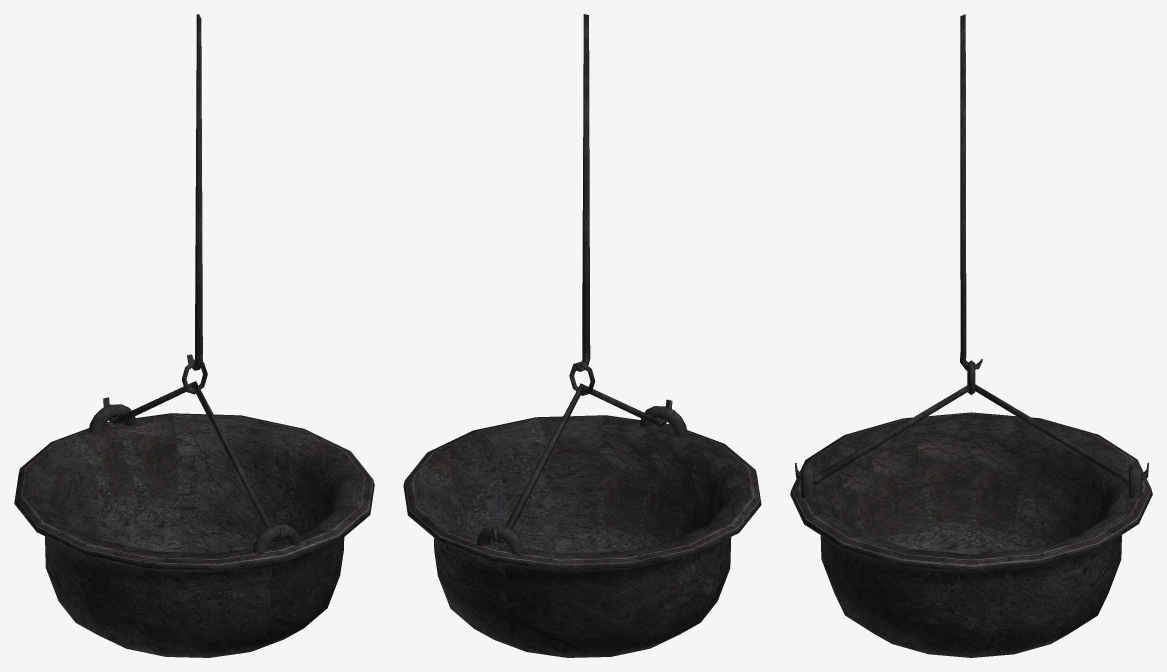
File: tavern_cooker.obj
3 views of the same model, side by side, from view 1: azimuth 30°, elevation 25°; view 2: azimuth 150°, elevation 25°; view 3: azimuth 270°, elevation 25° (orthographic).
Visible parts, largest first — view 1: Default_Layer; view 2: Default_Layer; view 3: Default_Layer.
Boxes of the visible parts, <box> form: Default_Layer: <box>14,14,374,657</box>; Default_Layer: <box>403,14,761,657</box>; Default_Layer: <box>790,14,1152,657</box>.
Size of the model in its own units: 6.2 by 11.34 by 6.2.
1 material, 1 textured.
